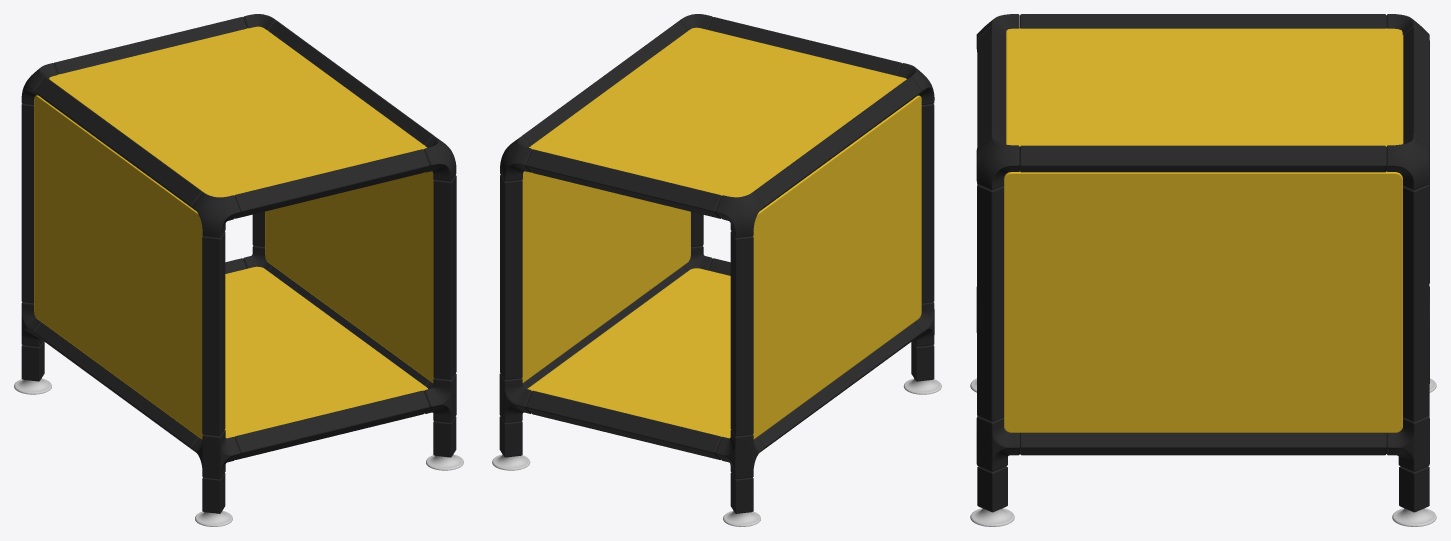
The picture shows the model from 3 angles, left to right: view 1: azimuth 30°, elevation 25°; view 2: azimuth 150°, elevation 25°; view 3: azimuth 270°, elevation 25°; orthographic projection. The views are drawn at different scales.
Visible parts, largest first — view 1: 229x329x229; view 2: 229x329x229; view 3: 229x329x229.
Part boxes in pixels (x1,y1,x2,y2): 229x329x229: [14, 14, 463, 526]; 229x329x229: [492, 14, 941, 526]; 229x329x229: [970, 14, 1436, 526].
Size of the model in its own units: 0.3189 by 0.3683 by 0.4182.
